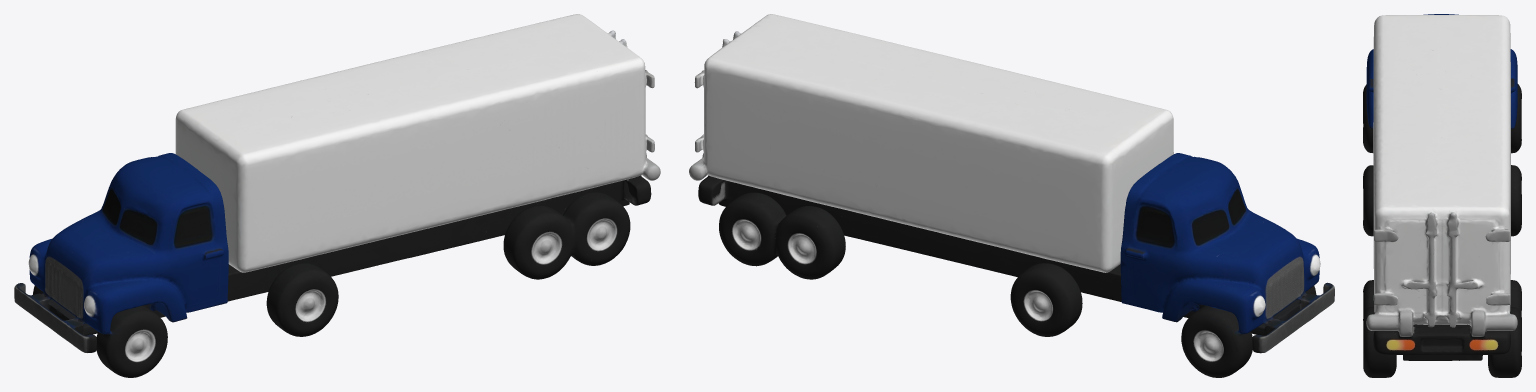
The model's file is cars_truck_bignose.glb.
The picture shows the model from 3 angles, left to right: view 1: azimuth 30°, elevation 25°; view 2: azimuth 150°, elevation 25°; view 3: azimuth 270°, elevation 25°; orthographic projection.
Bounding box in the file's own units: 1.9 × 0.6053 × 0.4566.
Materials: 1 (1 with a texture image).
